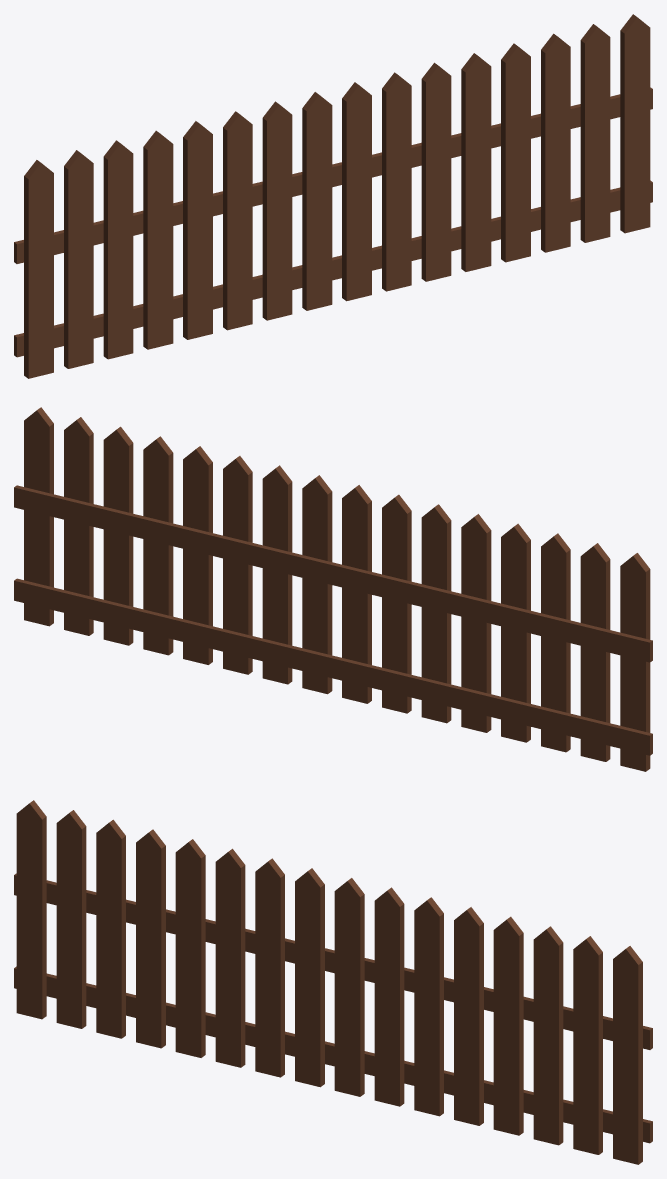
The model's file is Fence_Straight_1.fbx.
The picture shows the model from 3 angles, top to bottom: view 1: azimuth 30°, elevation 25°; view 2: azimuth 150°, elevation 25°; view 3: azimuth 330°, elevation 25°; orthographic projection.
Parts seen in each view (by area): view 1: Fence_Straight_1; view 2: Fence_Straight_1; view 3: Fence_Straight_1.
Boxes of the visible parts, x1,y1,x2,y2 form: Fence_Straight_1: (14,14,652,378); Fence_Straight_1: (14,407,652,771); Fence_Straight_1: (14,800,652,1164).
Size of the model in its own units: 1 by 0.32 by 0.02.
